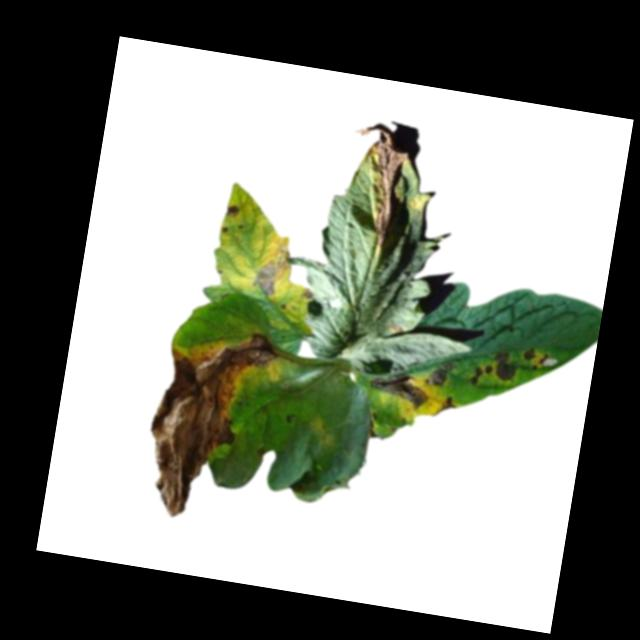Early_blight: (136, 319, 280, 530), (339, 120, 413, 253), (366, 365, 432, 414), (249, 246, 293, 301), (426, 358, 456, 391), (491, 350, 520, 384), (521, 346, 549, 375), (436, 391, 462, 421), (468, 362, 493, 389), (225, 203, 242, 221)
